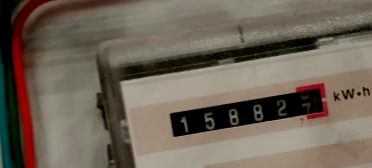1: (176, 112, 190, 133)
2: (273, 96, 288, 116)
5: (201, 108, 215, 130)
7: (299, 99, 312, 115)
8: (250, 100, 265, 123), (225, 104, 240, 126)
screen: (159, 75, 338, 146)
